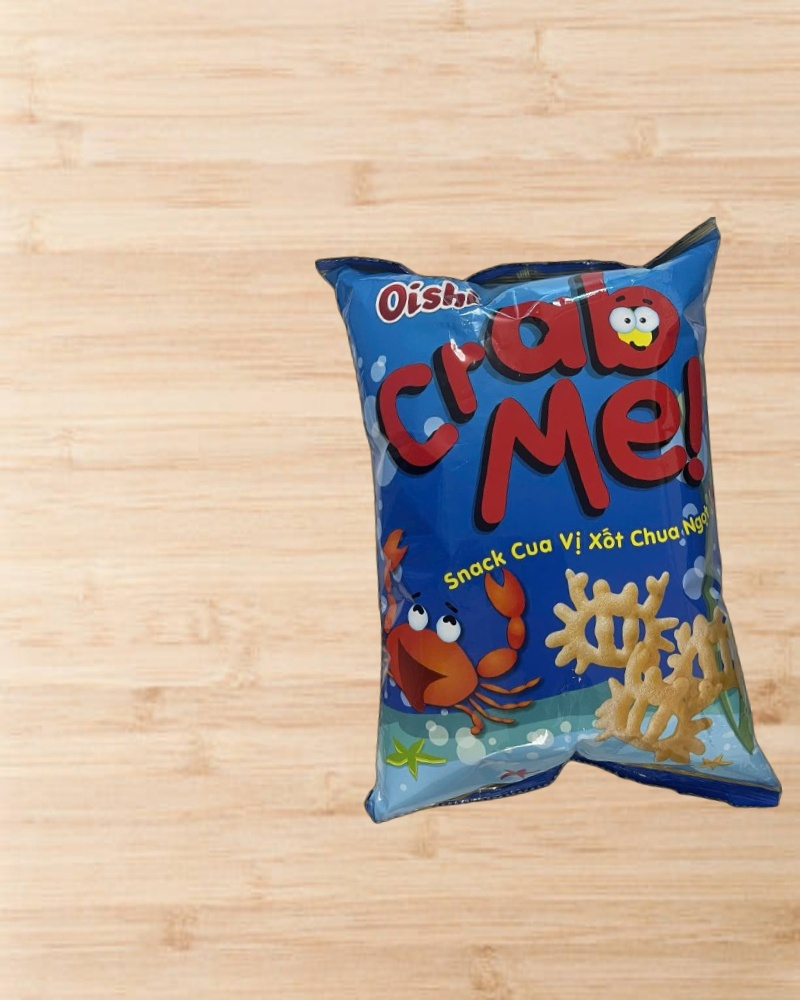Snack cua: (315, 216, 783, 837)
